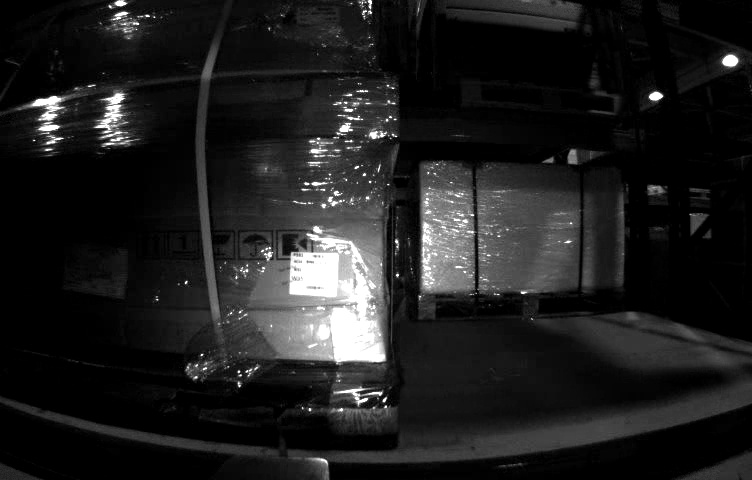True Barcode: (288, 250, 339, 299)
